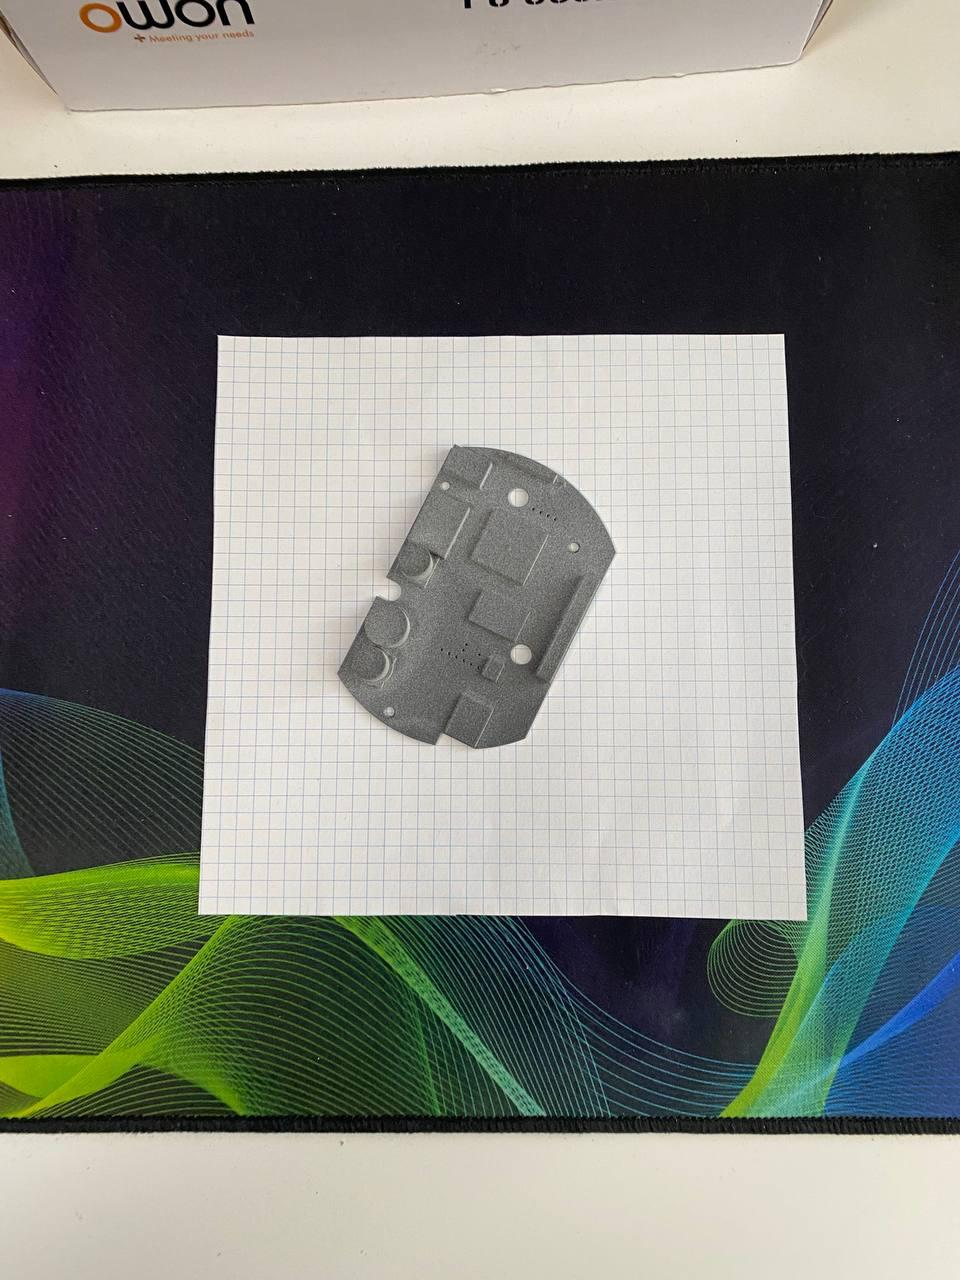grid: (183, 313, 820, 940)
